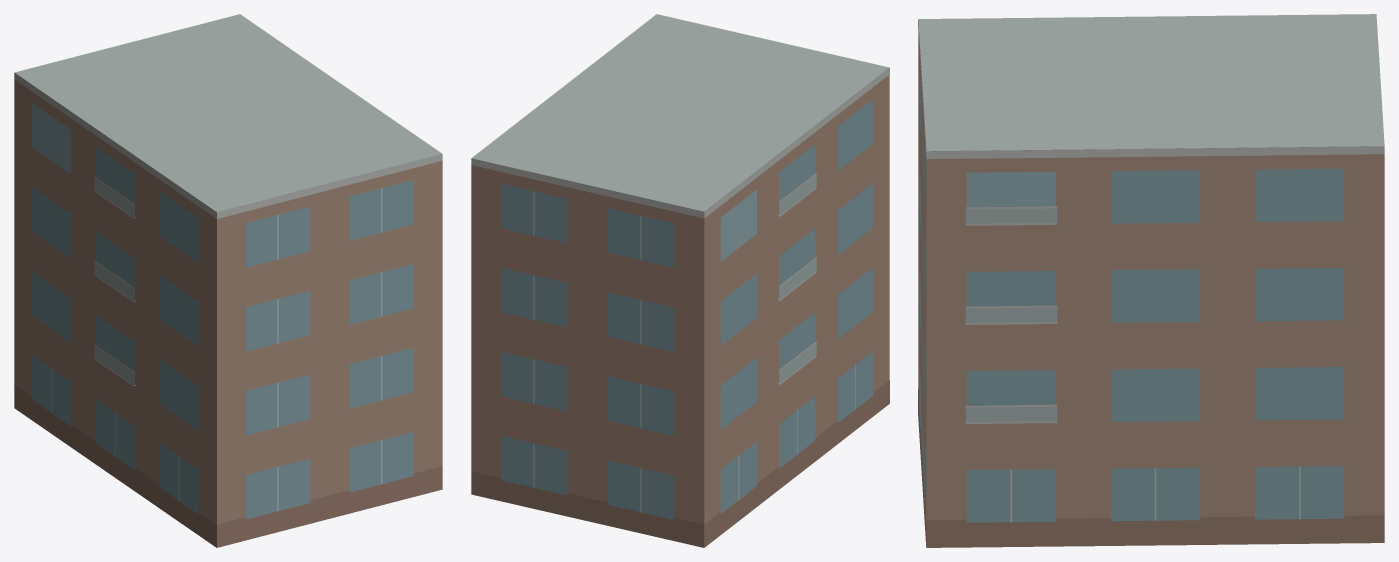
File: survey-upis-32728495.glb
3 renders of one model, left to right at view 1: azimuth 30°, elevation 25°; view 2: azimuth 150°, elevation 25°; view 3: azimuth 270°, elevation 25°, orthographic. The views are drawn at different scales.
Parts seen in each view (by area): view 1: survey-upis-32728495.tmp; view 2: survey-upis-32728495.tmp; view 3: survey-upis-32728495.tmp.
Boxes of the visible parts, left/top/right/bottom form: survey-upis-32728495.tmp: left=14, top=14, right=442, bottom=547; survey-upis-32728495.tmp: left=471, top=14, right=889, bottom=547; survey-upis-32728495.tmp: left=918, top=14, right=1384, bottom=547.
Size of the model in its own units: 8.91 by 12 by 12.8.
